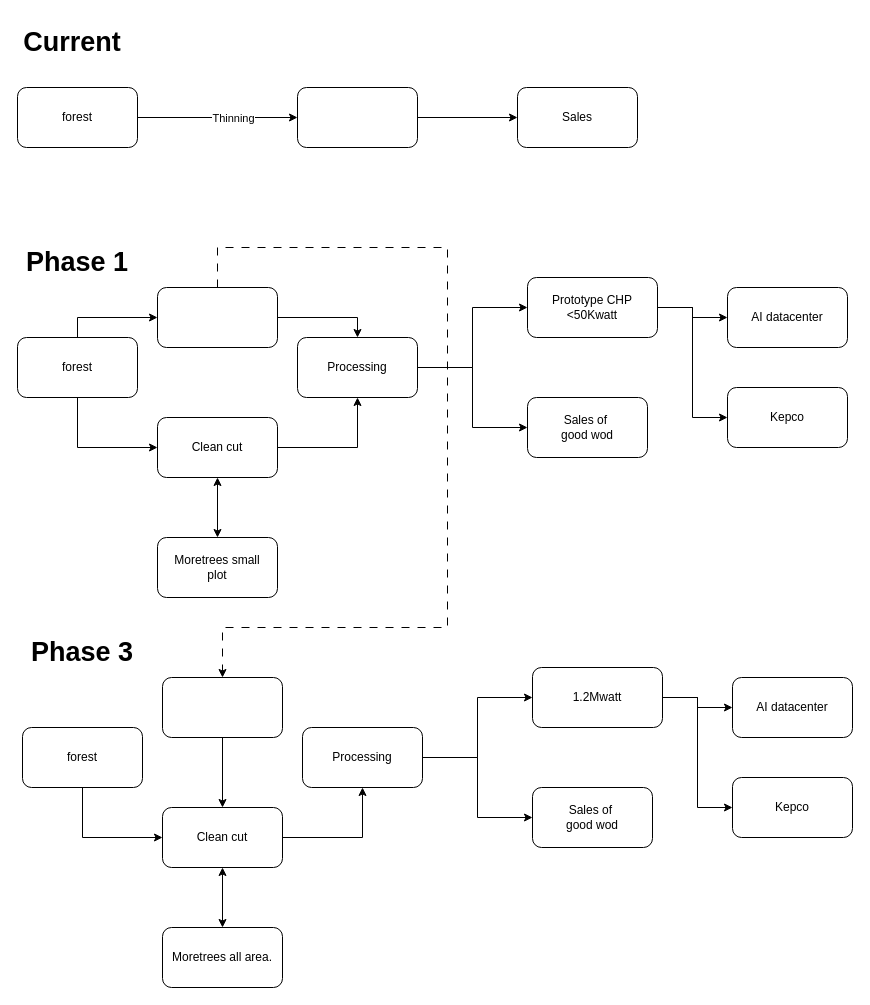
Some shapes in this 870 by 1005 pixel diagram are drawn without their labels. Each missing label, with the centre of its shape:
"Porccessing" belongs at point 357,117.
"Thinning 50%" belongs at point 217,317.
"Thinning cleanup from 50%" belongs at point 222,707.
